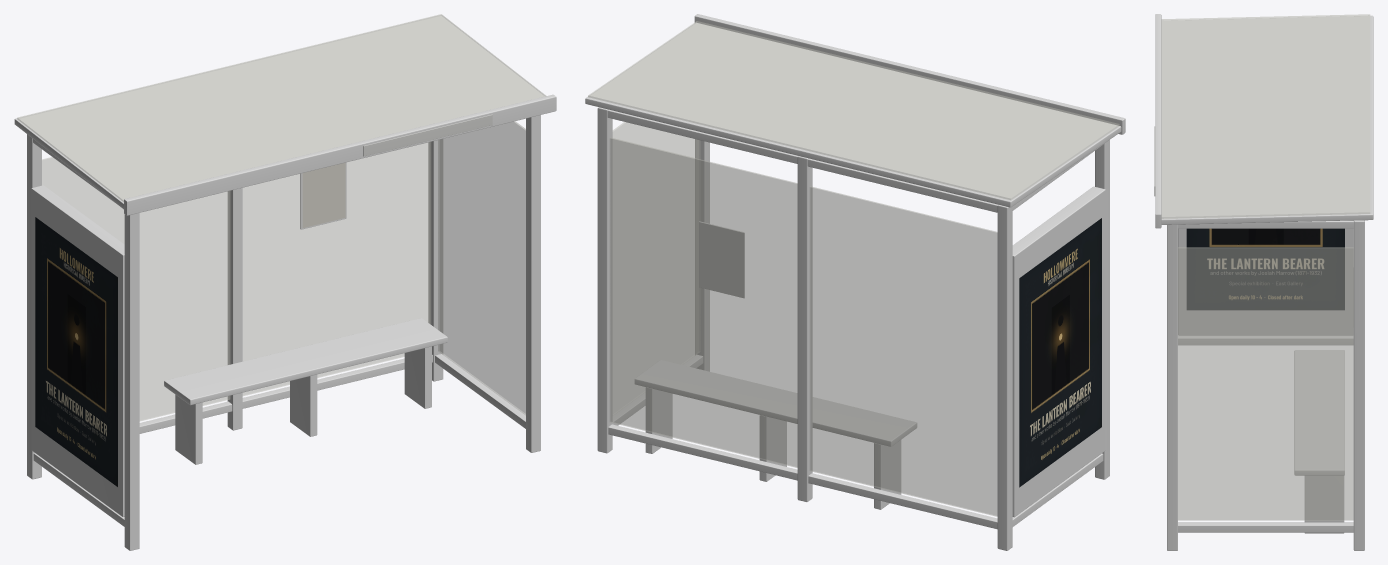
Rendered from SM_BusStop.fbx.
The picture shows the model from 3 angles, left to right: view 1: azimuth 30°, elevation 25°; view 2: azimuth 150°, elevation 25°; view 3: azimuth 270°, elevation 25°; orthographic projection. The views are drawn at different scales.
Parts seen in each view (by area): view 1: SM_BusStop; view 2: SM_BusStop; view 3: SM_BusStop.
Part boxes in pixels (x1,y1,x2,y2): SM_BusStop: (14, 14, 556, 550); SM_BusStop: (585, 14, 1125, 550); SM_BusStop: (1154, 14, 1373, 550).
Size of the model in its own units: 300 by 239 by 139.
